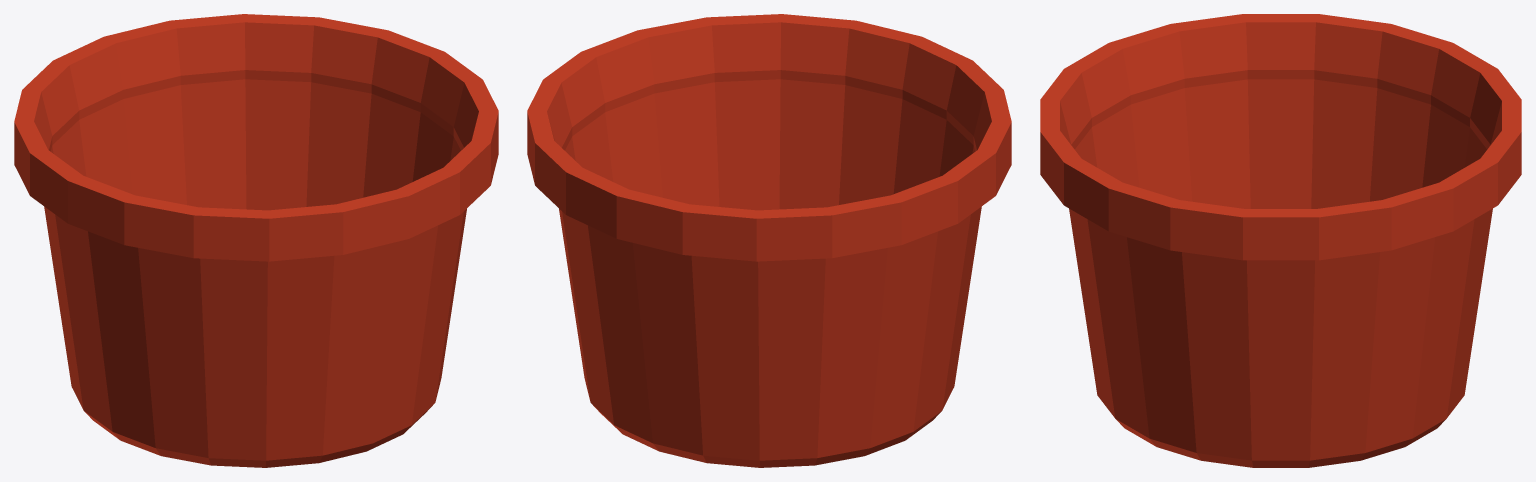
The model's file is SM_Clutter_BucketRound_Red_01.fbx.
3 renders of one model, left to right at view 1: azimuth 30°, elevation 25°; view 2: azimuth 150°, elevation 25°; view 3: azimuth 270°, elevation 25°, orthographic.
Visible parts, largest first — view 1: SM_Clutter_BucketRound_Red_01; view 2: SM_Clutter_BucketRound_Red_01; view 3: SM_Clutter_BucketRound_Red_01.
Boxes of the visible parts, <box> form: SM_Clutter_BucketRound_Red_01: <box>14,14,498,467</box>; SM_Clutter_BucketRound_Red_01: <box>527,14,1011,467</box>; SM_Clutter_BucketRound_Red_01: <box>1040,14,1521,467</box>.
Size of the model in its own units: 0.3753 by 0.24 by 0.3753.
1 material, 1 textured.
